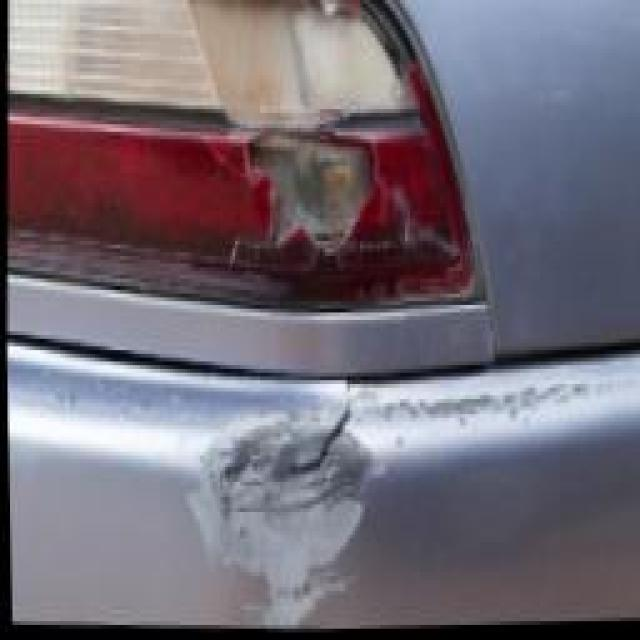Bumper: (5, 328, 640, 640)
Light: (0, 0, 500, 346)
